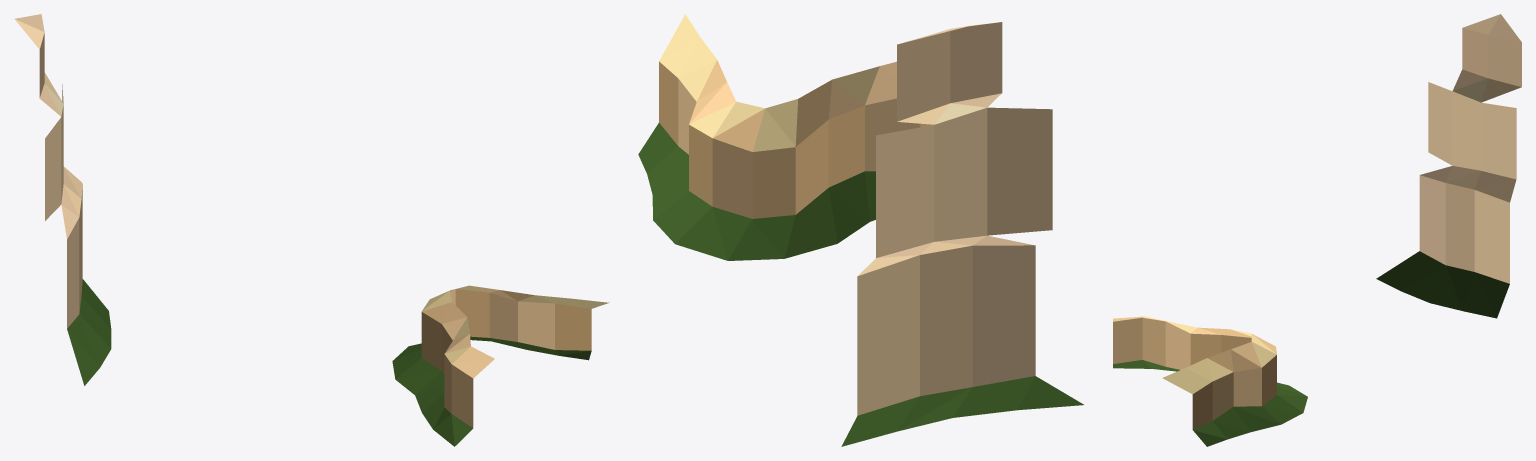
The picture shows the model from 3 angles, left to right: view 1: azimuth 30°, elevation 25°; view 2: azimuth 150°, elevation 25°; view 3: azimuth 270°, elevation 25°; orthographic projection. The views are drawn at different scales.
Visible parts, largest first — view 1: O26956; view 2: O26956; view 3: O26956.
Boxes of the visible parts, box(x1,y1,x2,y2) form: O26956: box(14, 14, 609, 446); O26956: box(638, 14, 1083, 446); O26956: box(1113, 14, 1521, 446).
Bounding box in the file's own units: 133 × 96 × 134.
